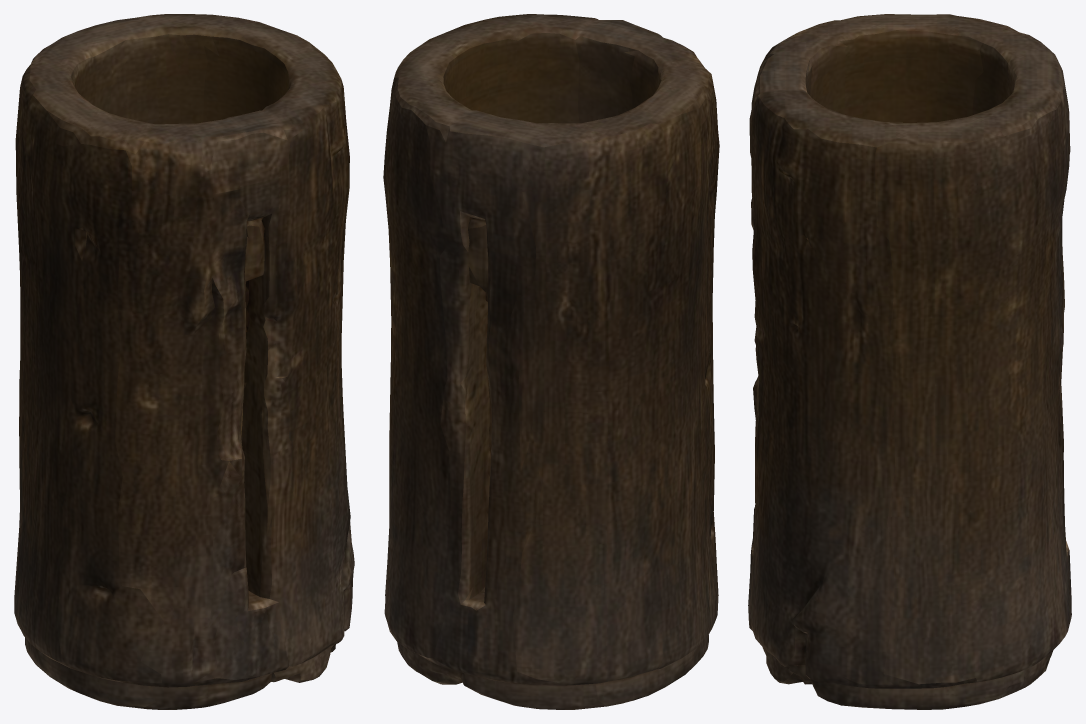
The picture shows the model from 3 angles, left to right: view 1: azimuth 30°, elevation 25°; view 2: azimuth 150°, elevation 25°; view 3: azimuth 270°, elevation 25°; orthographic projection.
Parts seen in each view (by area): view 1: world; view 2: world; view 3: world.
Boxes of the visible parts, <box> form: world: <box>14,14,354,709</box>; world: <box>383,14,719,709</box>; world: <box>748,14,1071,709</box>.
Size of the model in its own units: 0.1682 by 0.32 by 0.1635.
Materials: 1 (1 with a texture image).
